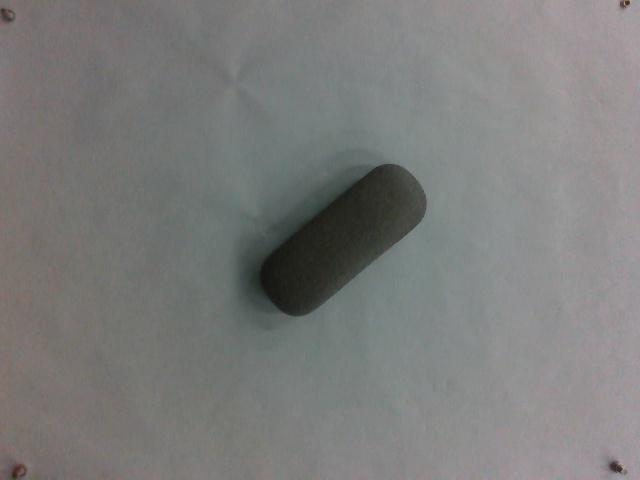glassescase: (255, 159, 427, 323)
